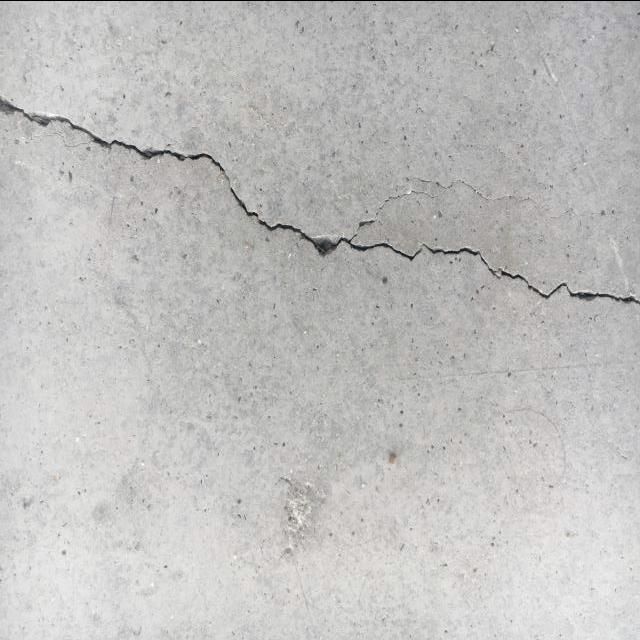SurfaceCrack: (1, 65, 640, 332)
